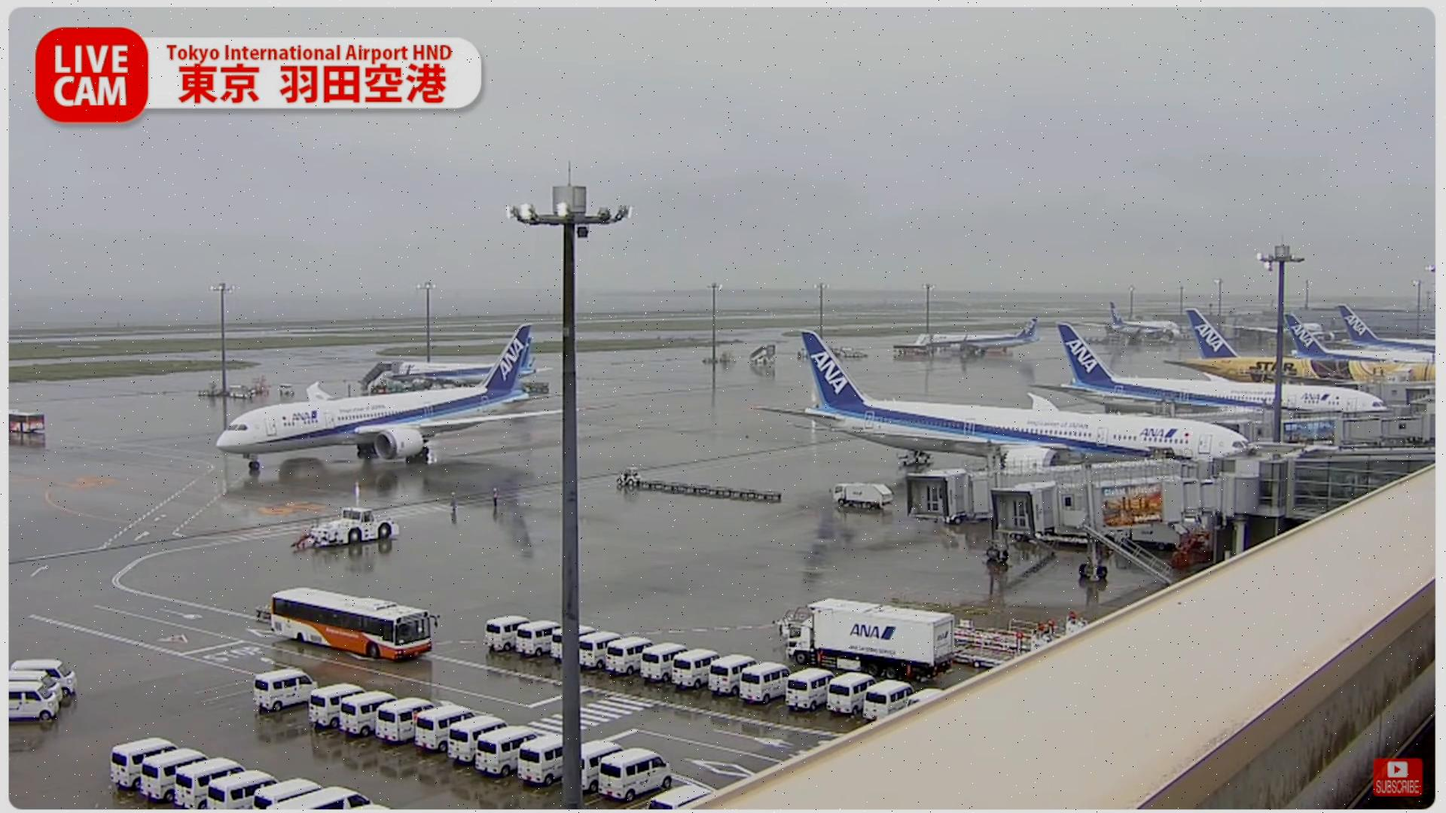APS: (308, 506, 400, 547)
Aerobridge: (904, 455, 1210, 522), (991, 474, 1261, 535)
Airplane: (214, 322, 614, 471)
Catering: (772, 597, 954, 681)
JCPL: (953, 615, 1087, 656), (953, 645, 1024, 671)
Window: (1292, 458, 1433, 516)
